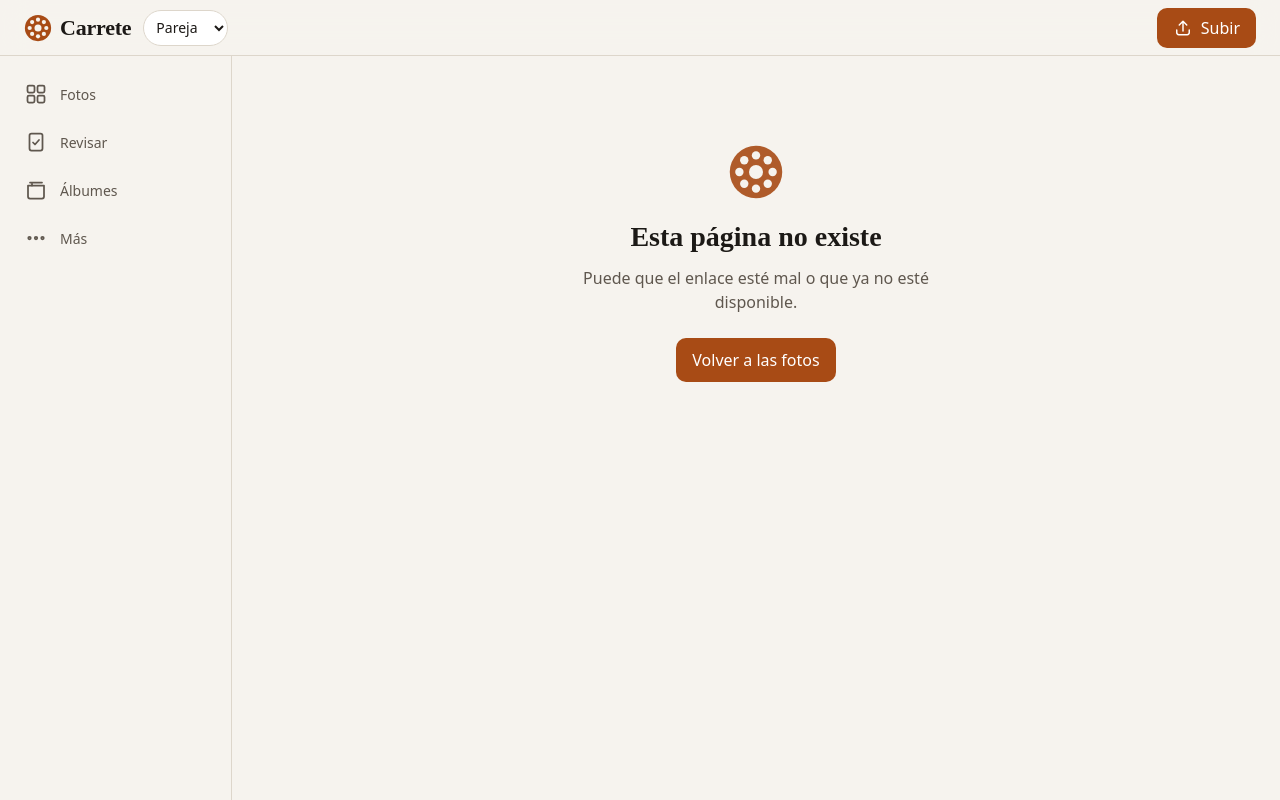
it: armazón de la aplicación › responde a rutas inexistentes
This screenshot has width=1280, height=800.
Expected: the heading "Esta página no existe" is shown, [630, 220, 882, 254]
Click the link "Volver a las fotos" at (756, 360), box [676, 338, 836, 382]
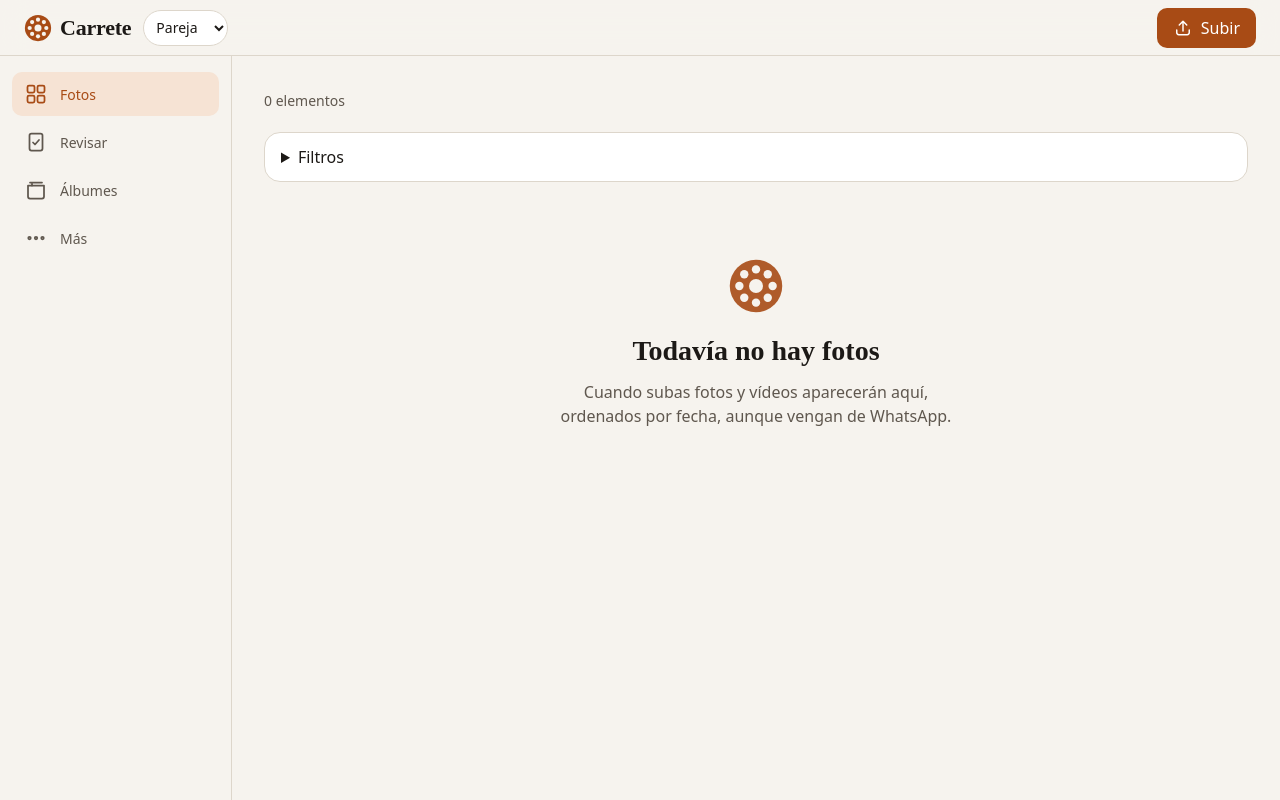
Expected: the heading "Todavía no hay fotos" is shown, [632, 334, 880, 368]
